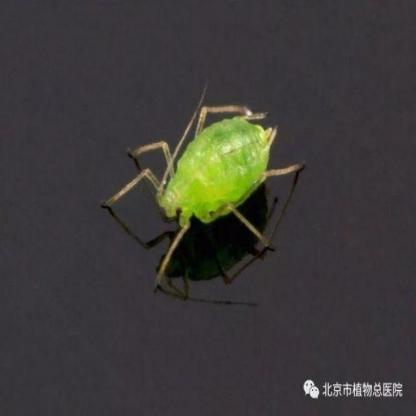aphid: (101, 104, 308, 270)
